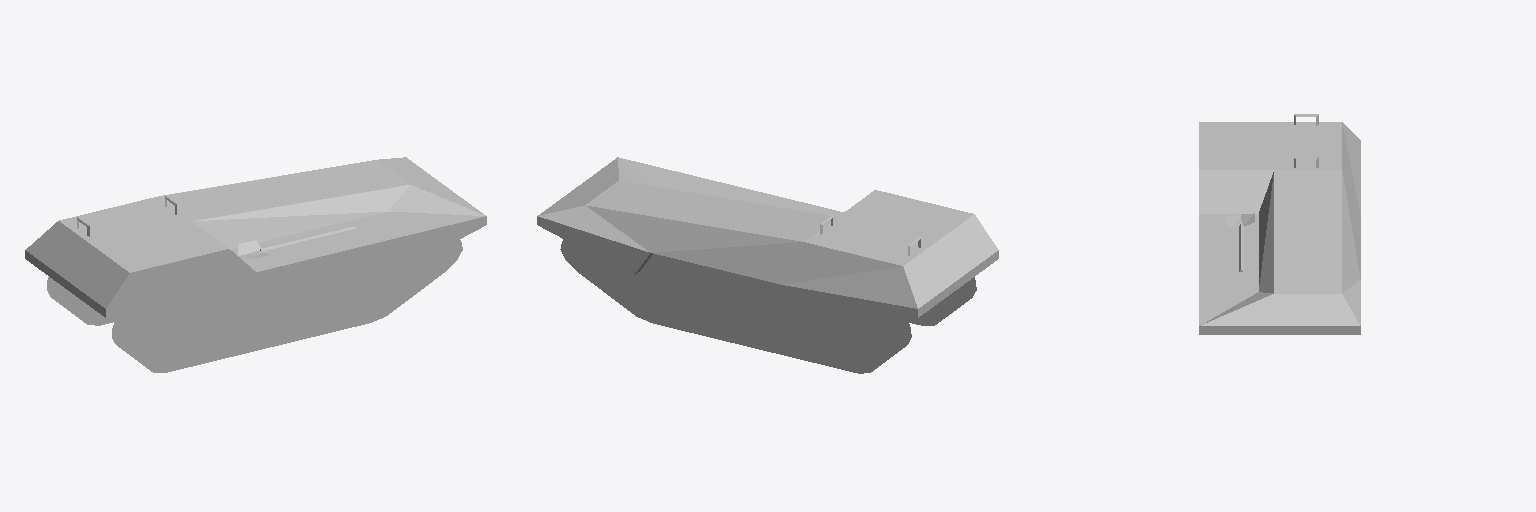
Rendered from treadbaseFL.obj.
3 views of the same model, side by side, from view 1: azimuth 30°, elevation 25°; view 2: azimuth 150°, elevation 25°; view 3: azimuth 270°, elevation 25° (orthographic).
Parts seen in each view (by area): view 1: ungrouped; view 2: ungrouped; view 3: ungrouped.
Boxes of the visible parts, x1,y1,x2,y2 form: ungrouped: [25, 157, 486, 372]; ungrouped: [537, 157, 998, 373]; ungrouped: [1199, 114, 1360, 334].
Size of the model in its own units: 14.9 by 4.76 by 5.46.